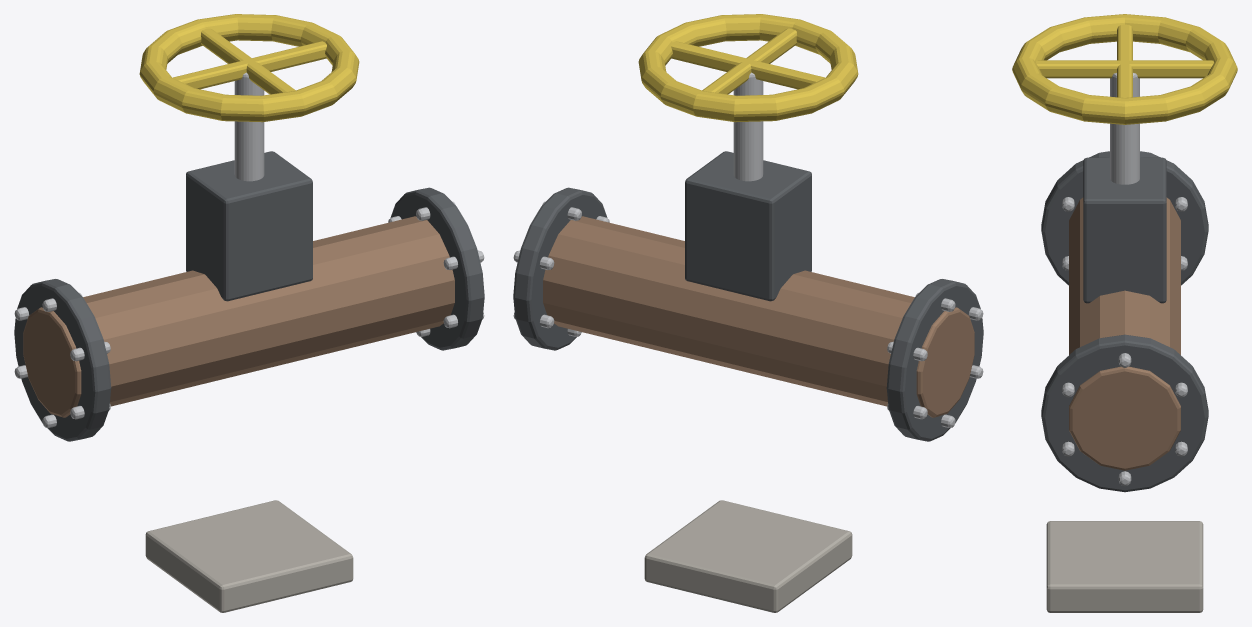
File: pipe_valve.fbx
3 renders of one model, left to right at view 1: azimuth 30°, elevation 25°; view 2: azimuth 150°, elevation 25°; view 3: azimuth 270°, elevation 25°, orthographic.
Parts seen in each view (by area): view 1: pipe_valve; view 2: pipe_valve; view 3: pipe_valve.
Part boxes in pixels (x1=…): pipe_valve: x1=14, y1=14, x2=484, y2=612; pipe_valve: x1=513, y1=14, x2=983, y2=612; pipe_valve: x1=1012, y1=14, x2=1237, y2=612.
Size of the model in its own units: 0.924 by 1.1 by 0.4319.
